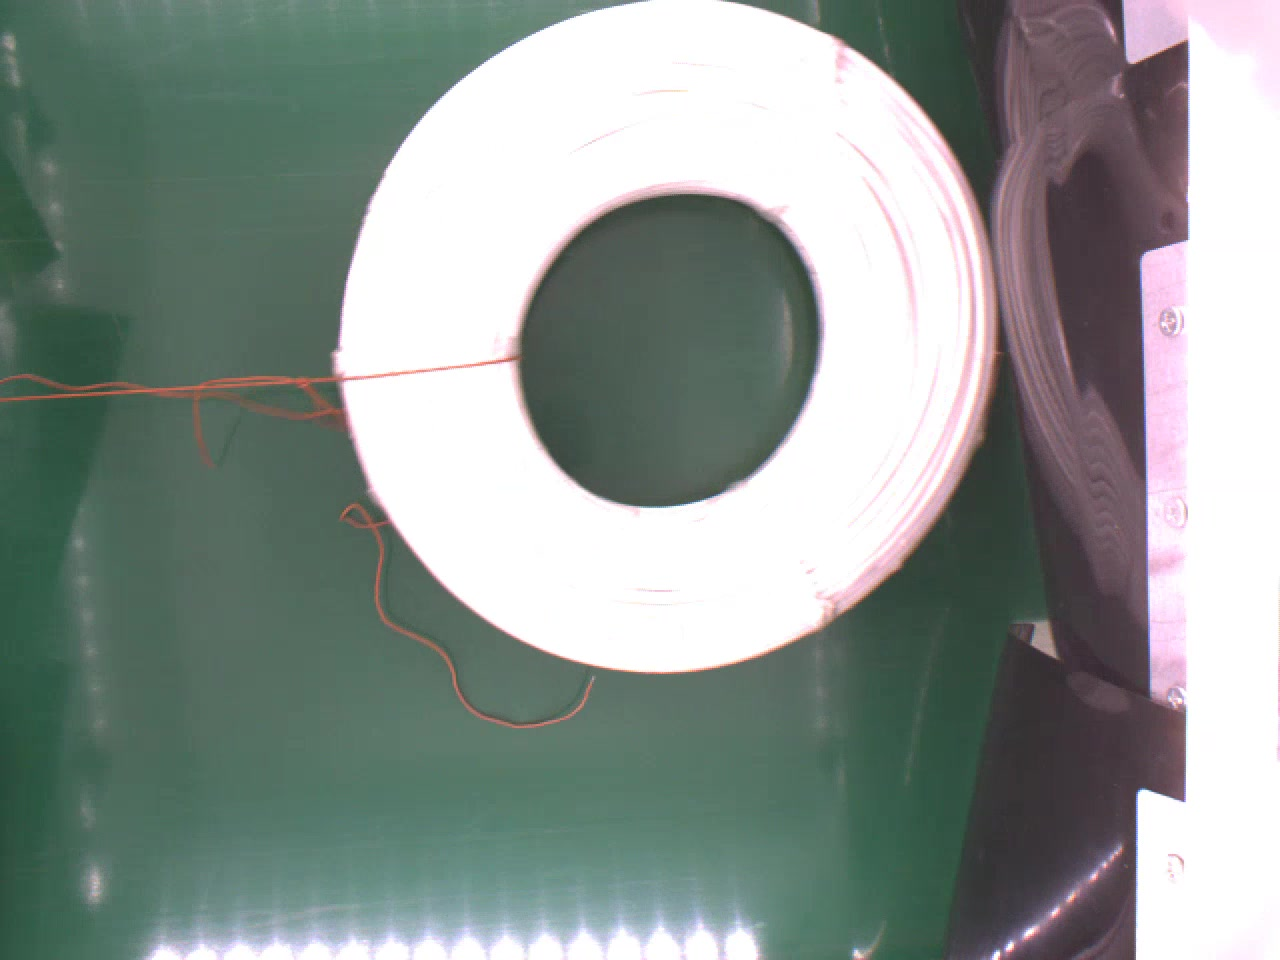white: (329, 2, 1007, 674)
